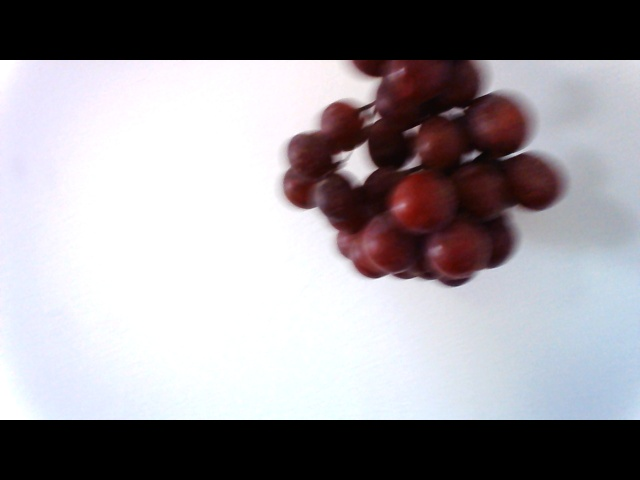grape: (282, 62, 568, 297)
